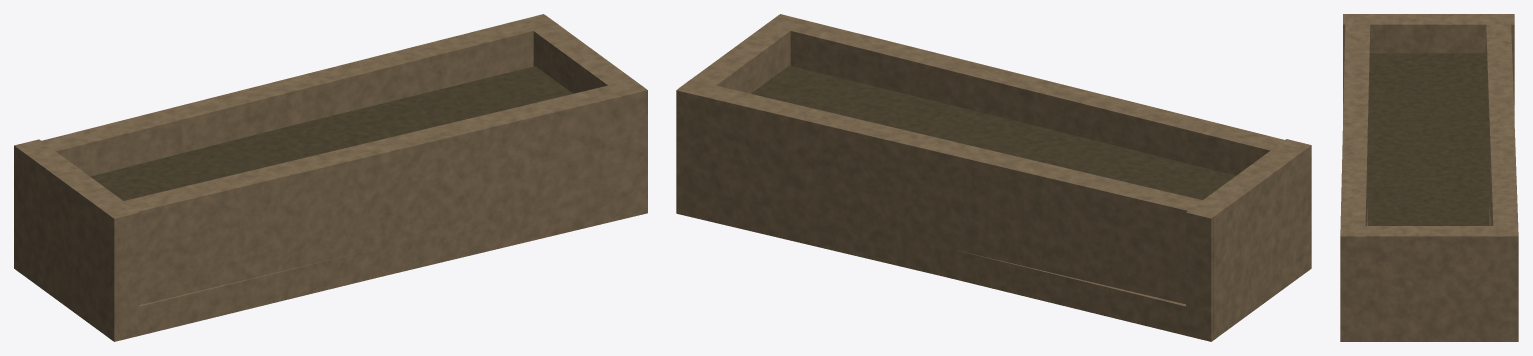
File: trough.glb
3 renders of one model, left to right at view 1: azimuth 30°, elevation 25°; view 2: azimuth 150°, elevation 25°; view 3: azimuth 270°, elevation 25°, orthographic. The views are drawn at different scales.
Parts seen in each view (by area): view 1: Cube; view 2: Cube; view 3: Cube.
Boxes of the visible parts, x1,y1,x2,y2 form: Cube: (14, 14, 647, 341); Cube: (676, 14, 1311, 341); Cube: (1340, 14, 1518, 341).
Bounding box in the file's own units: 1.9 × 0.42 × 0.6437.
1 material, 1 textured.
